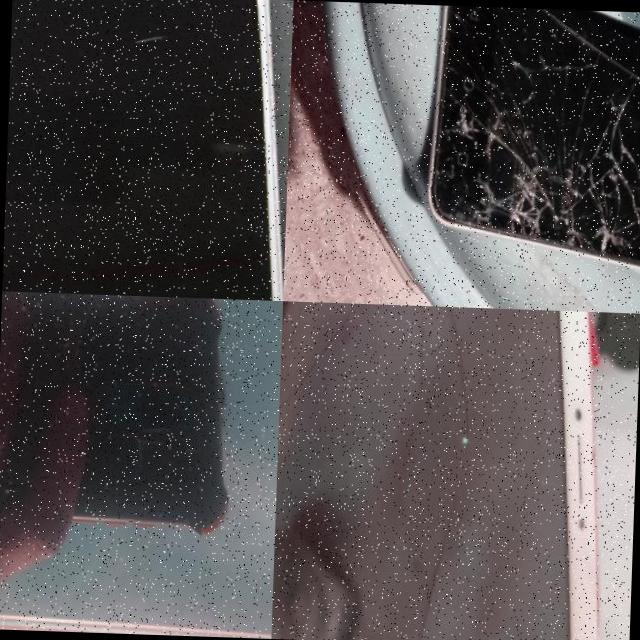scratch: (128, 21, 182, 52)
screen crack: (269, 300, 529, 640), (404, 3, 640, 292)
